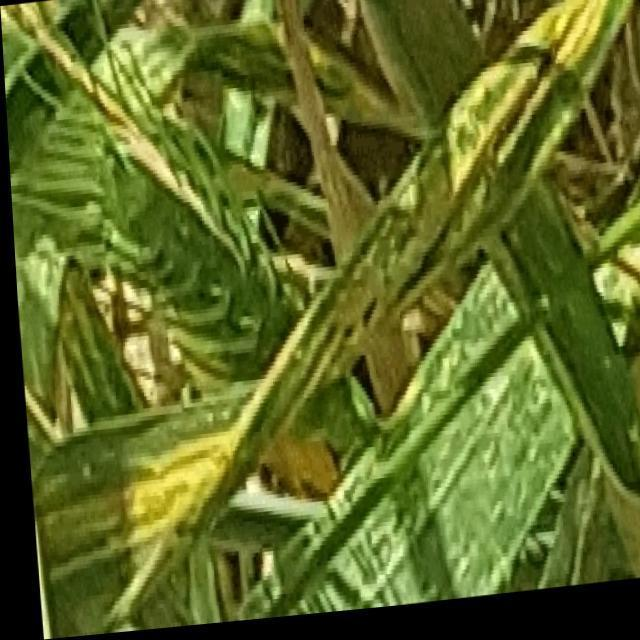Yellow_Rust: (42, 13, 590, 582)
